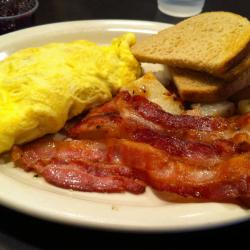bread: (130, 10, 250, 105)
omelette: (1, 31, 141, 158)
